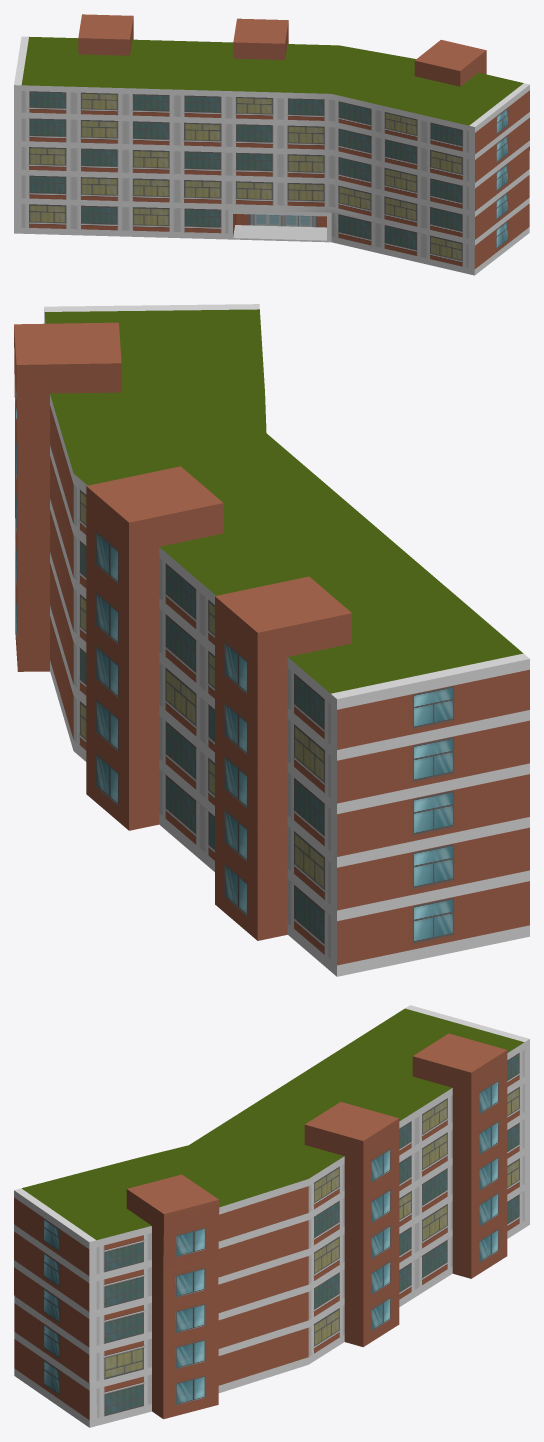
Rendered from building_domitory3.fbx.
3 views of the same model, one above another, from view 1: azimuth 30°, elevation 25°; view 2: azimuth 150°, elevation 25°; view 3: azimuth 270°, elevation 25° (orthographic). The views are drawn at different scales.
Parts seen in each view (by area): view 1: building_domitory3; view 2: building_domitory3; view 3: building_domitory3.
Boxes of the visible parts, x1=… form: building_domitory3: x1=14, y1=14, x2=529, y2=275; building_domitory3: x1=14, y1=304, x2=529, y2=976; building_domitory3: x1=14, y1=1005, x2=529, y2=1427.
Size of the model in its own units: 3.35 by 1.36 by 3.09.
Materials: 1 (1 with a texture image).
